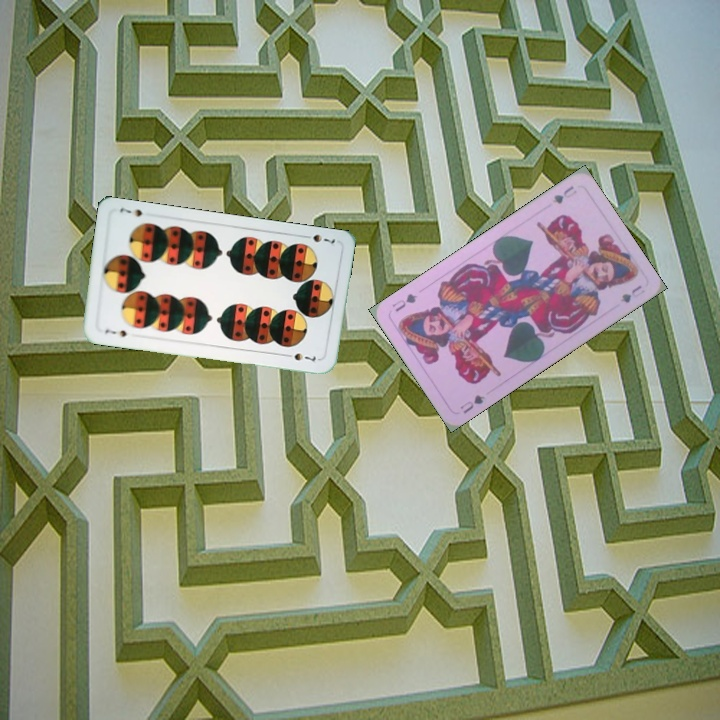GU: (456, 390, 488, 417), (548, 182, 580, 207)
S7: (299, 230, 338, 246), (101, 325, 129, 340)
